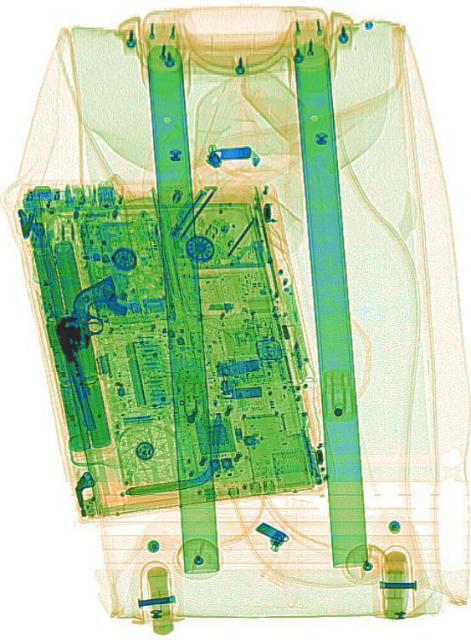Gun: (47, 274, 148, 432)
